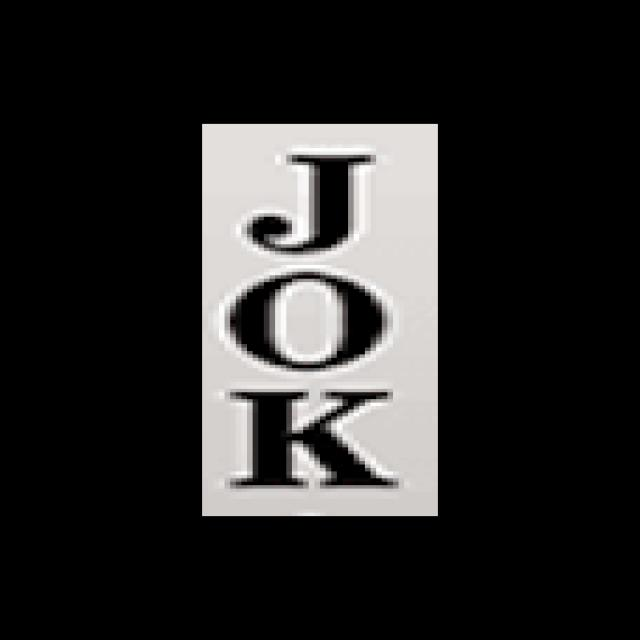BLACK JOKER: (187, 126, 454, 514)
